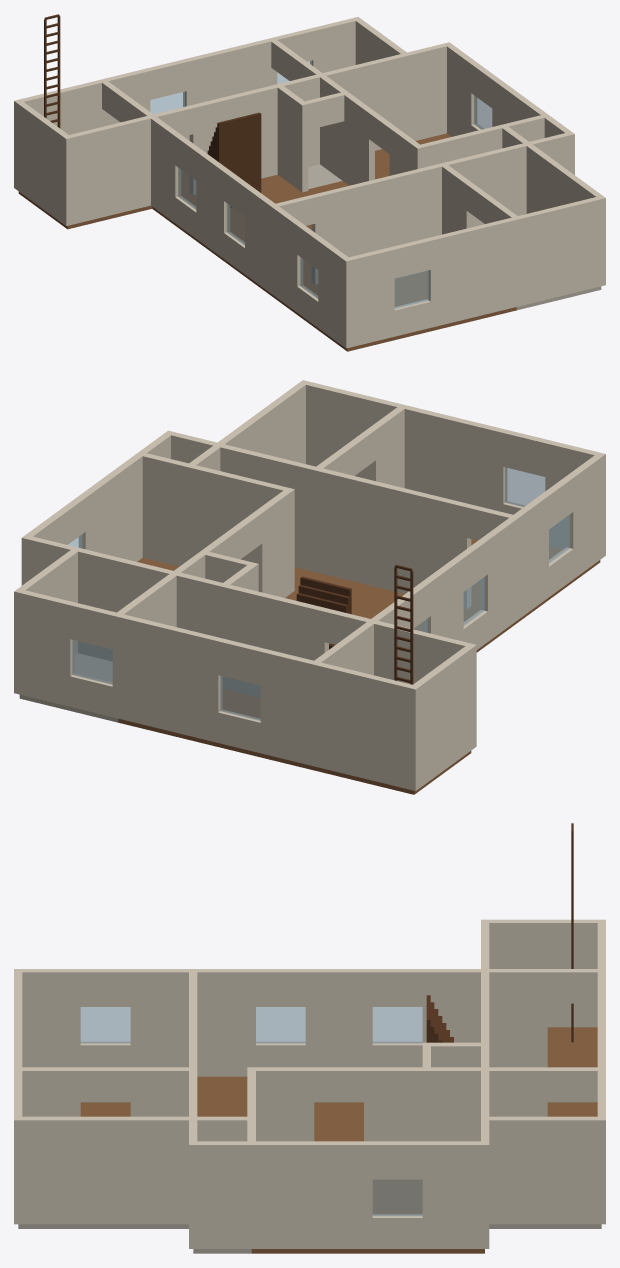
Rendered from segundo-piso.glb.
3 views of the same model, one above another, from view 1: azimuth 30°, elevation 25°; view 2: azimuth 150°, elevation 25°; view 3: azimuth 270°, elevation 25° (orthographic). The views are drawn at different scales.
Visible parts, largest first — view 1: segundo-piso-muros, segundo-piso-vanos, segundo-piso-suelos, segundo-piso-escaleras, segundo-piso-vidrios; view 2: segundo-piso-muros, segundo-piso-vanos, segundo-piso-suelos, segundo-piso-vidrios, segundo-piso-escaleras; view 3: segundo-piso-muros, segundo-piso-vanos, segundo-piso-suelos, segundo-piso-vidrios, segundo-piso-escaleras.
Boxes of the visible parts, x1,y1,x2,y2 form: segundo-piso-muros: [14, 17, 605, 348]; segundo-piso-vanos: [99, 27, 532, 336]; segundo-piso-suelos: [18, 133, 601, 351]; segundo-piso-escaleras: [44, 14, 261, 207]; segundo-piso-vidrios: [150, 61, 492, 308]; segundo-piso-muros: [14, 380, 605, 790]; segundo-piso-vanos: [50, 426, 577, 753]; segundo-piso-suelos: [19, 539, 600, 794]; segundo-piso-vidrios: [68, 467, 569, 720]; segundo-piso-escaleras: [296, 564, 413, 684]; segundo-piso-muros: [14, 919, 605, 1248]; segundo-piso-vanos: [14, 969, 605, 1248]; segundo-piso-suelos: [18, 1027, 601, 1253]; segundo-piso-vidrios: [80, 1007, 422, 1215]; segundo-piso-escaleras: [426, 823, 573, 1042].
Bounding box in the file's own units: 13.94 × 6.24 × 15.46.
